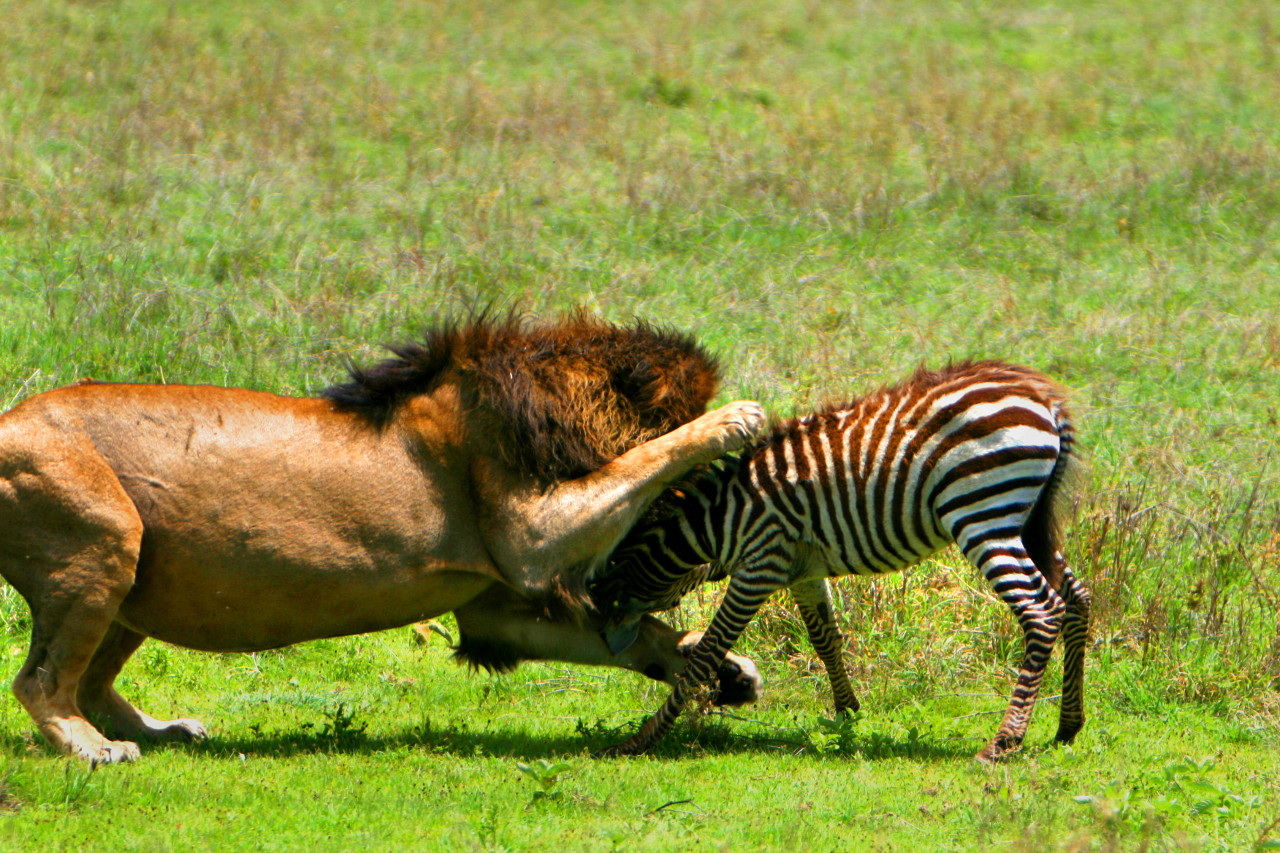lion: (1, 306, 728, 767)
zebra: (586, 364, 1096, 760)
